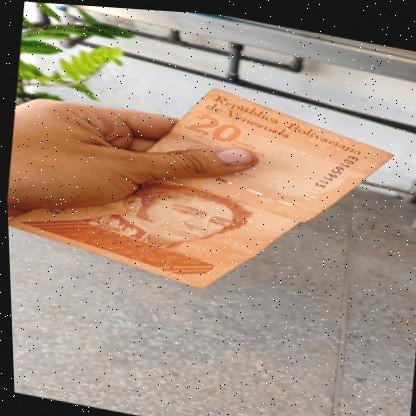twenty-front-vef: (1, 50, 402, 320)
